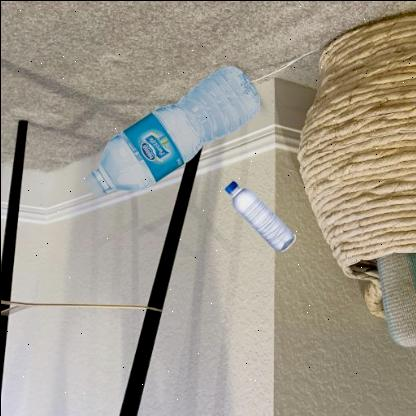Plastic Bottle: (84, 64, 259, 194), (223, 180, 295, 251)
